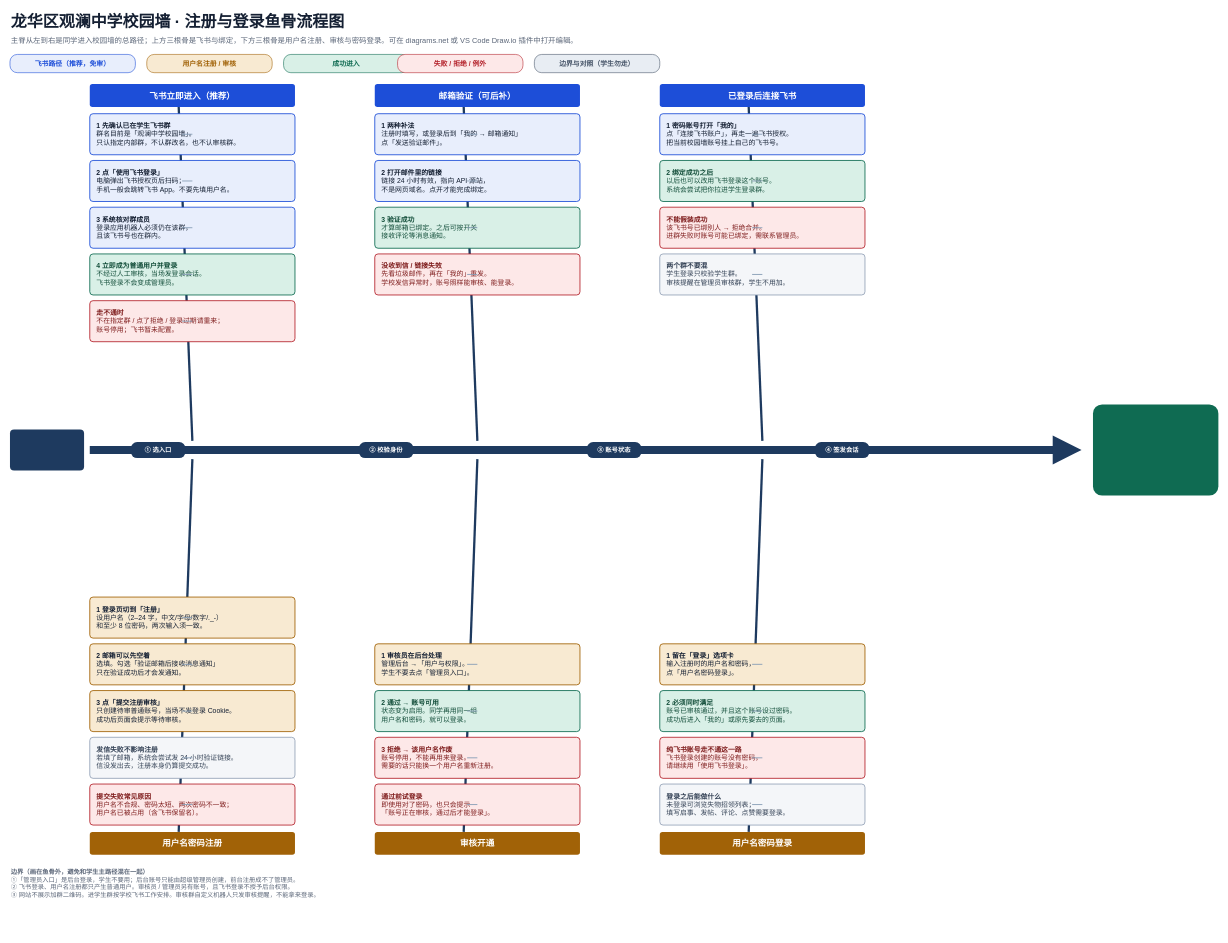
The diagram is 1228 pixels wide and 943 high, and some of its shapes have lost their labels. Here are the shapes that lost their labels. From the top down, the centre of each, then its label:
At point 47,449: "起点 打开 /login".
At point 1155,449: "结果 已登录普通用户 可发帖 / 填失物招领 可进「我的」".
